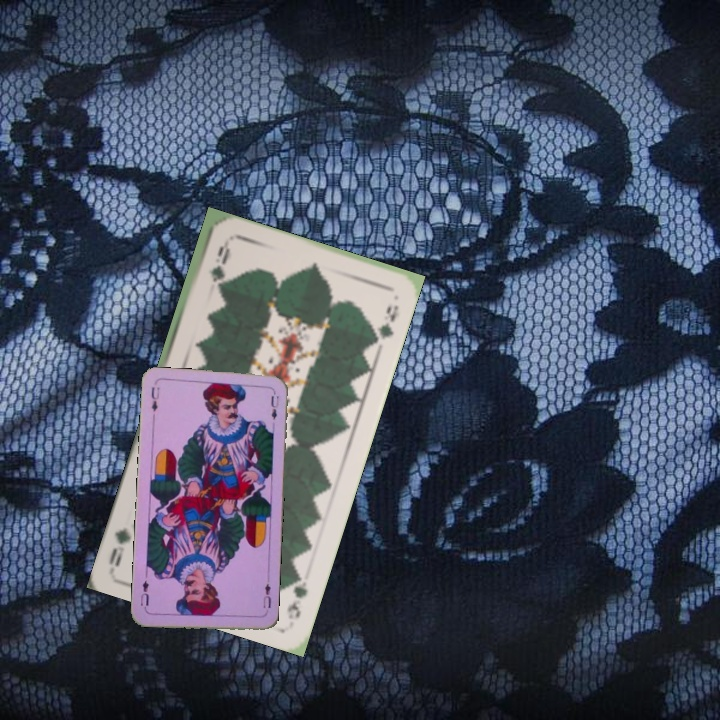EU: (259, 576, 273, 611), (147, 383, 162, 414)
G9: (283, 566, 310, 622), (206, 238, 230, 285)
